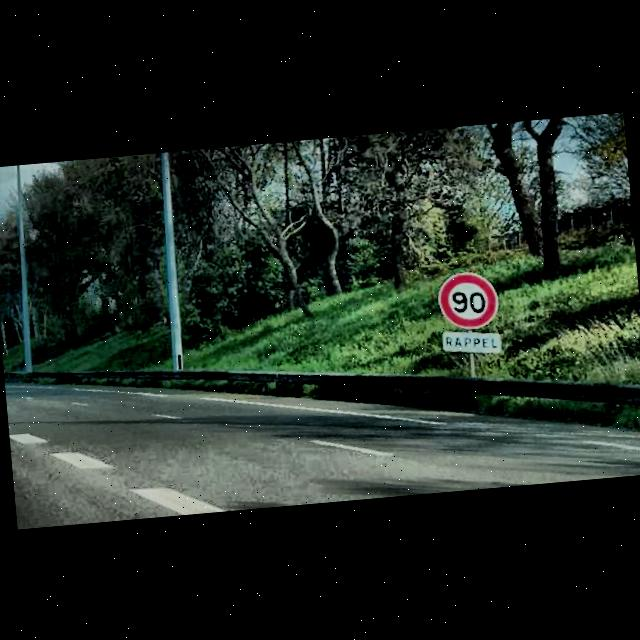speed_90: (438, 268, 500, 329)
